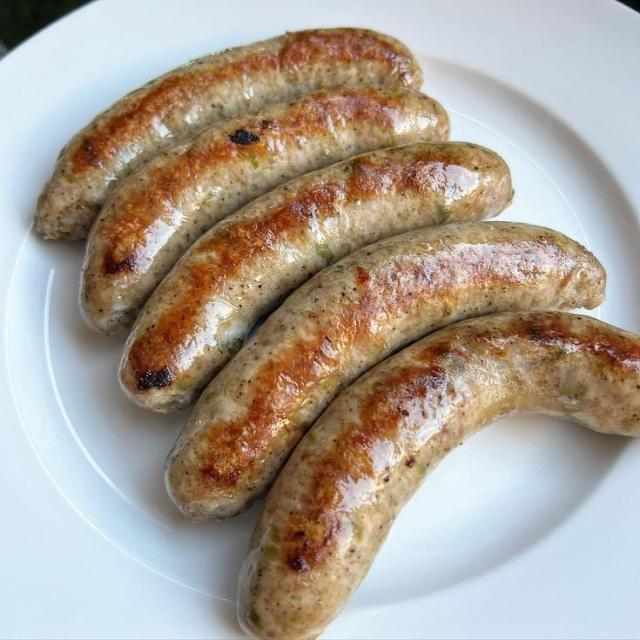sausage: (238, 313, 639, 639), (167, 222, 605, 520), (121, 143, 512, 411), (81, 87, 449, 333), (35, 29, 422, 239)
